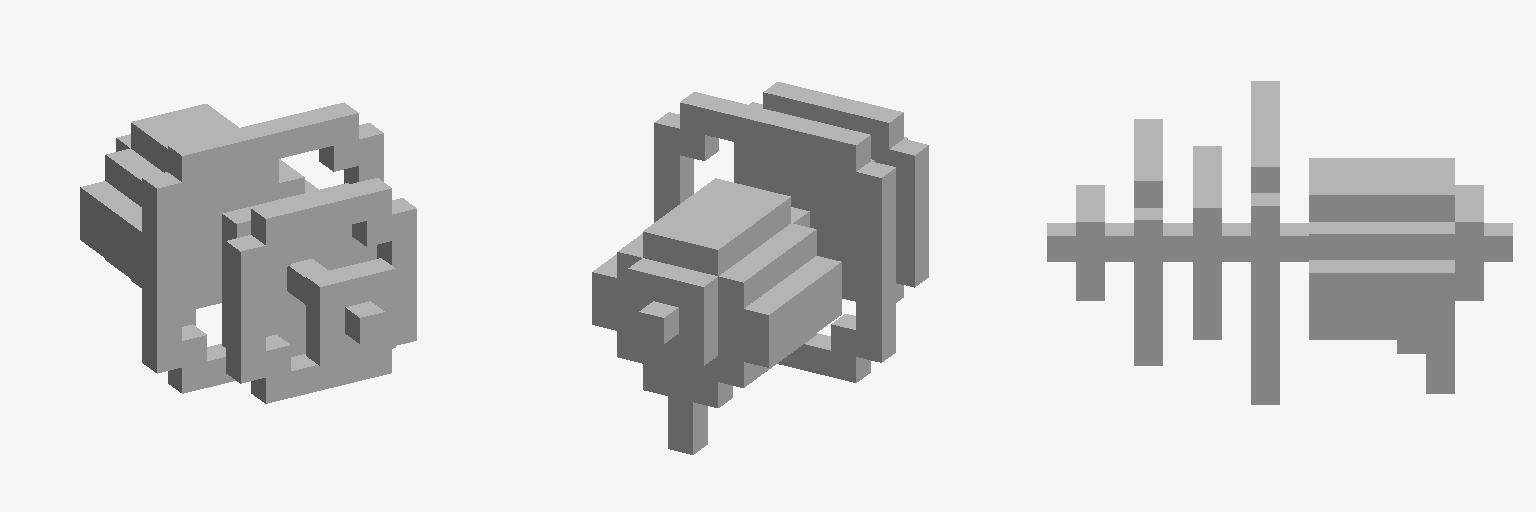
File: LaserGun.obj
3 views of the same model, side by side, from view 1: azimuth 30°, elevation 25°; view 2: azimuth 150°, elevation 25°; view 3: azimuth 270°, elevation 25° (orthographic).
Parts seen in each view (by area): view 1: LaserGun:Mesh; view 2: LaserGun:Mesh; view 3: LaserGun:Mesh.
Boxes of the visible parts, <box> form: LaserGun:Mesh: <box>80,102,416,403</box>; LaserGun:Mesh: <box>592,82,928,454</box>; LaserGun:Mesh: <box>1047,81,1512,404</box>.
Size of the model in its own units: 0.9 by 1 by 1.6.